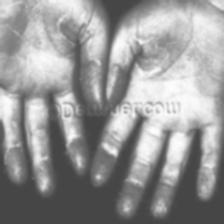Toxin: (120, 32, 172, 78), (53, 10, 99, 44), (82, 67, 98, 95)
